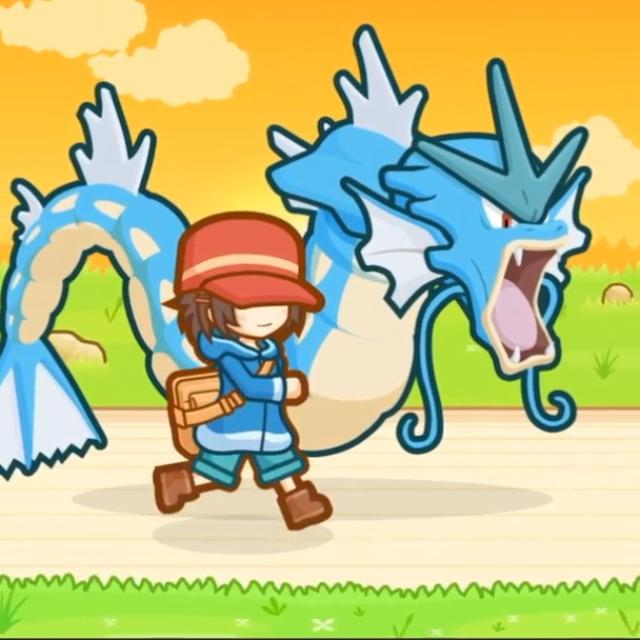Gyarados: (68, 64, 591, 449)
